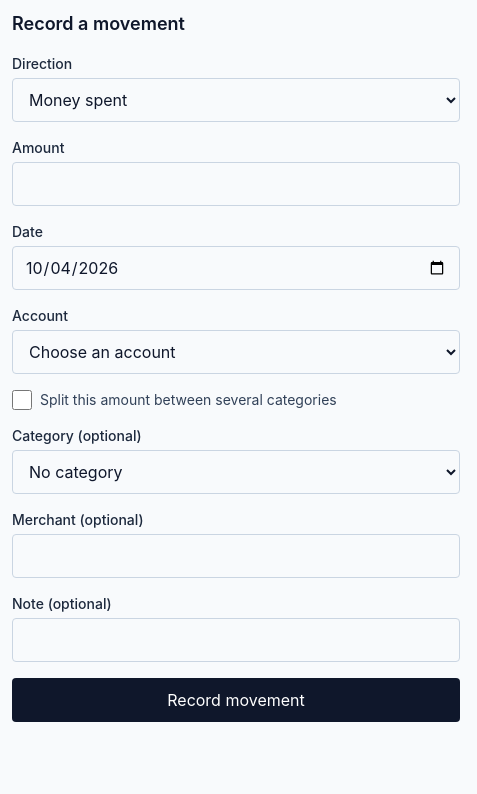
Test: TransactionForm › swaps the single category for the parts when the split mode is turned on
Expected: the dropdown labelled "Category (optional)" is shown, [12,450,460,494]
Click the checkbox labelled "Split this amount between several categories": (22, 400) [12,390,32,410]
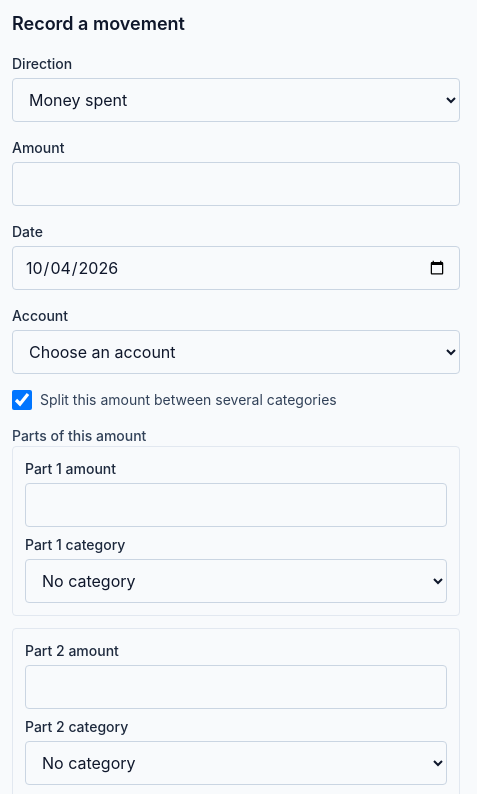
Expected: the label labelled "Category (optional)" is gone
Expected: the field labelled "Part 1 amount" is shown, [25,483,447,527]
Expected: the dropdown labelled "Part 2 category" is shown, [25,741,447,785]
